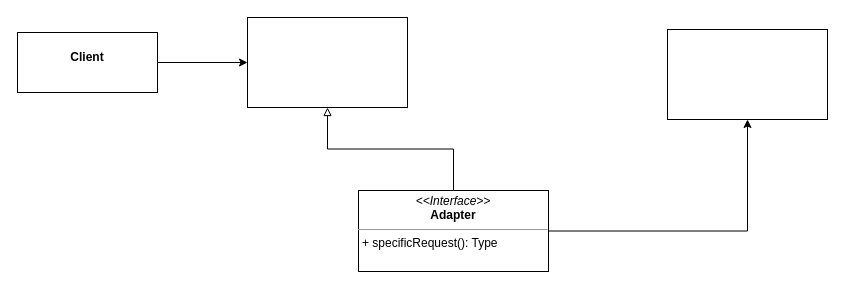
Image size: 845x289. Some labels were removed from this diagram. Each missing label, with the centre of its shape:
Adaptee: point 747,74
Target + request(): Type: point 327,62
